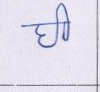i_matra: (57, 3, 73, 41)
